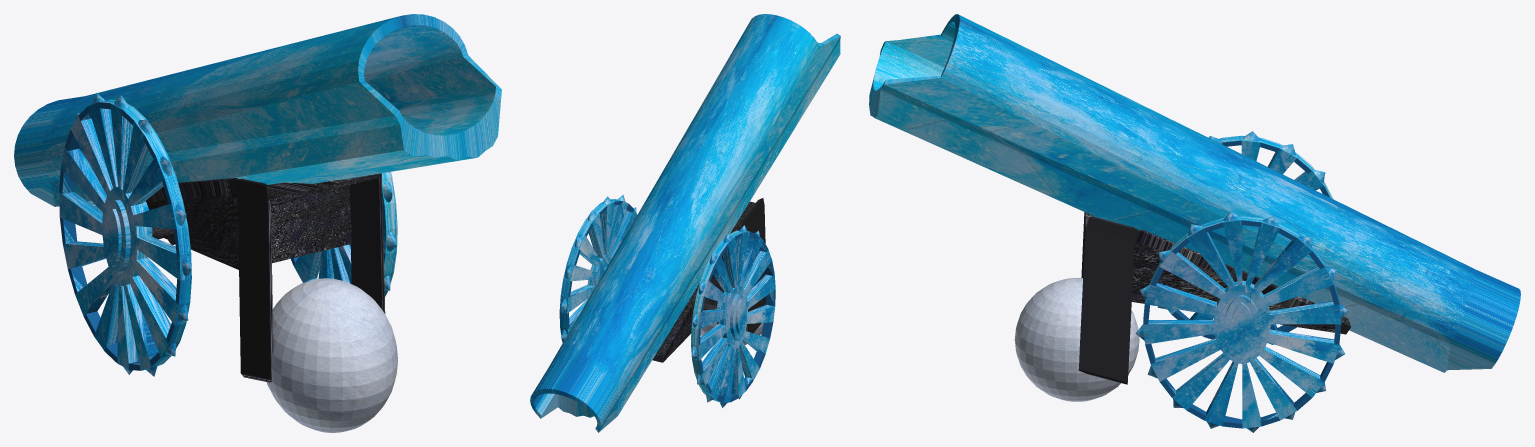
File: SnowIceTurret.fbx
3 views of the same model, side by side, from view 1: azimuth 30°, elevation 25°; view 2: azimuth 150°, elevation 25°; view 3: azimuth 270°, elevation 25° (orthographic). The views are drawn at different scales.
Visible parts, largest first — view 1: Cylinder.004, Cylinder.003, Cube.001, Sphere, Cylinder; view 2: Cylinder.004, Cylinder.003, Cylinder, Cube.001; view 3: Cylinder.004, Cylinder, Cube.001, Sphere, Cylinder.003.
Boxes of the visible parts, x1,y1,x2,y2 form: Cylinder.004: (14, 14, 501, 212); Cylinder.003: (59, 99, 191, 370); Cube.001: (145, 173, 385, 382); Sphere: (266, 278, 397, 432); Cylinder: (291, 172, 397, 296); Cylinder.004: (530, 14, 840, 432); Cylinder.003: (691, 230, 775, 402); Cylinder: (559, 199, 636, 342); Cube.001: (652, 198, 766, 362); Cylinder.004: (869, 14, 1520, 372); Cylinder: (1143, 216, 1341, 428); Cube.001: (1078, 212, 1350, 384); Sphere: (1014, 278, 1139, 401); Cylinder.003: (1166, 135, 1332, 339).
Size of the model in its own units: 429 by 811 by 1267.
4 materials, 4 textured.
